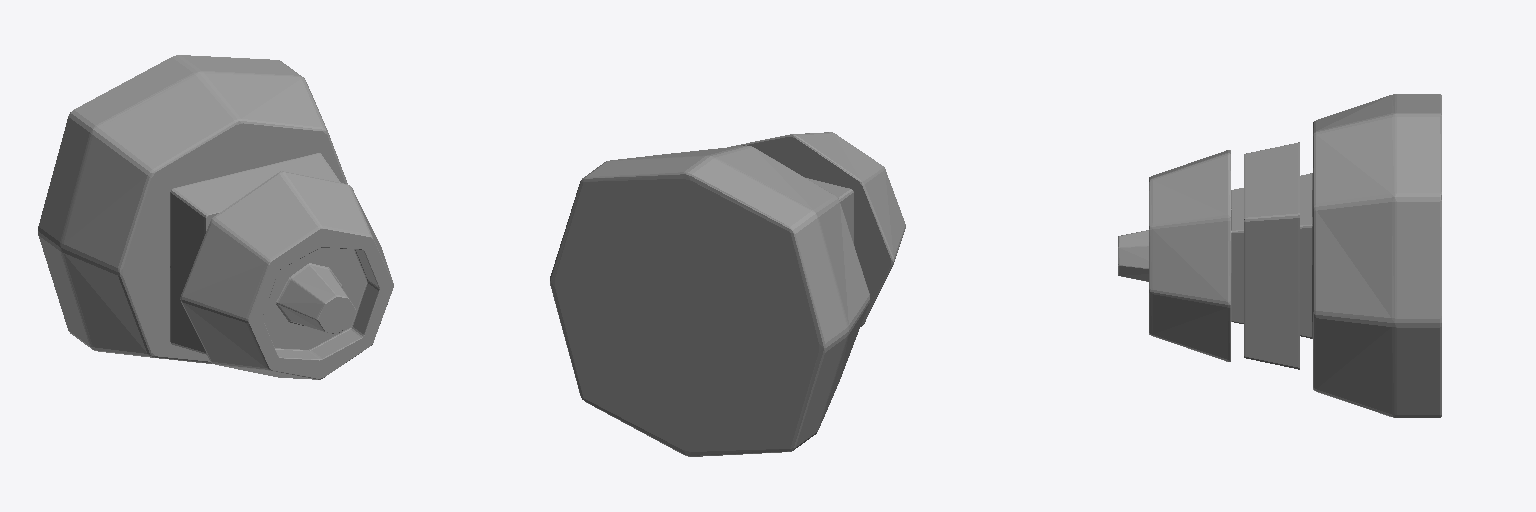
Rendered from EngineTip01.obj.
3 renders of one model, left to right at view 1: azimuth 30°, elevation 25°; view 2: azimuth 150°, elevation 25°; view 3: azimuth 270°, elevation 25°, orthographic.
Visible parts, largest first — view 1: EngineTip01_Cube; view 2: EngineTip01_Cube; view 3: EngineTip01_Cube.
Part boxes in pixels (x1,y1,x2,y2): EngineTip01_Cube: (38,55,393,379); EngineTip01_Cube: (550,132,905,456); EngineTip01_Cube: (1118,94,1441,417).
Size of the model in its own units: 1.47 by 1.44 by 1.49.